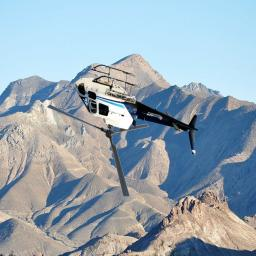helicopter: (49, 66, 202, 197)
